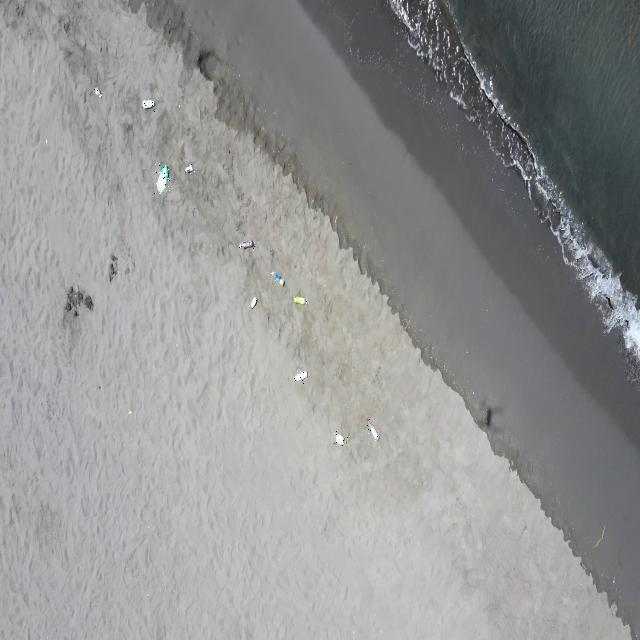Garbage: (64, 287, 91, 316), (156, 164, 168, 192), (592, 524, 604, 547), (366, 416, 375, 440), (108, 253, 116, 280), (292, 369, 307, 383), (333, 431, 347, 444), (271, 272, 283, 284), (238, 240, 255, 247), (141, 99, 154, 108), (293, 296, 307, 303), (249, 296, 256, 307), (184, 163, 192, 172), (94, 87, 101, 96)
